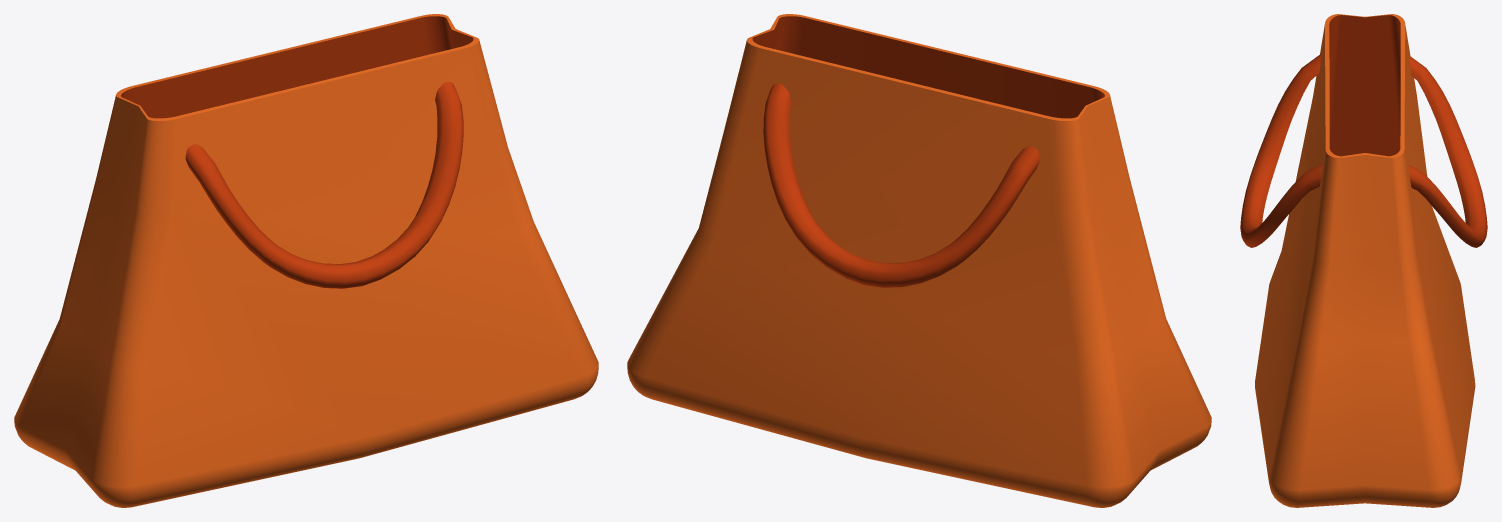
Rendered from Bag.fbx.
3 views of the same model, side by side, from view 1: azimuth 30°, elevation 25°; view 2: azimuth 150°, elevation 25°; view 3: azimuth 270°, elevation 25° (orthographic). The views are drawn at different scales.
Visible parts, largest first — view 1: Bag; view 2: Bag; view 3: Bag.
Boxes of the visible parts, <box> form: Bag: <box>14,14,598,507</box>; Bag: <box>627,14,1211,507</box>; Bag: <box>1240,14,1487,507</box>.
Bounding box in the file's own units: 44.16 × 30 × 21.08.
